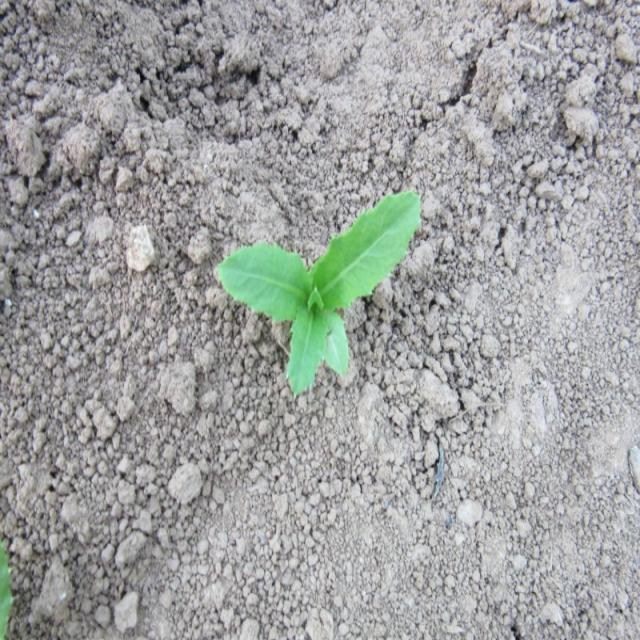cs: (213, 188, 423, 400)
